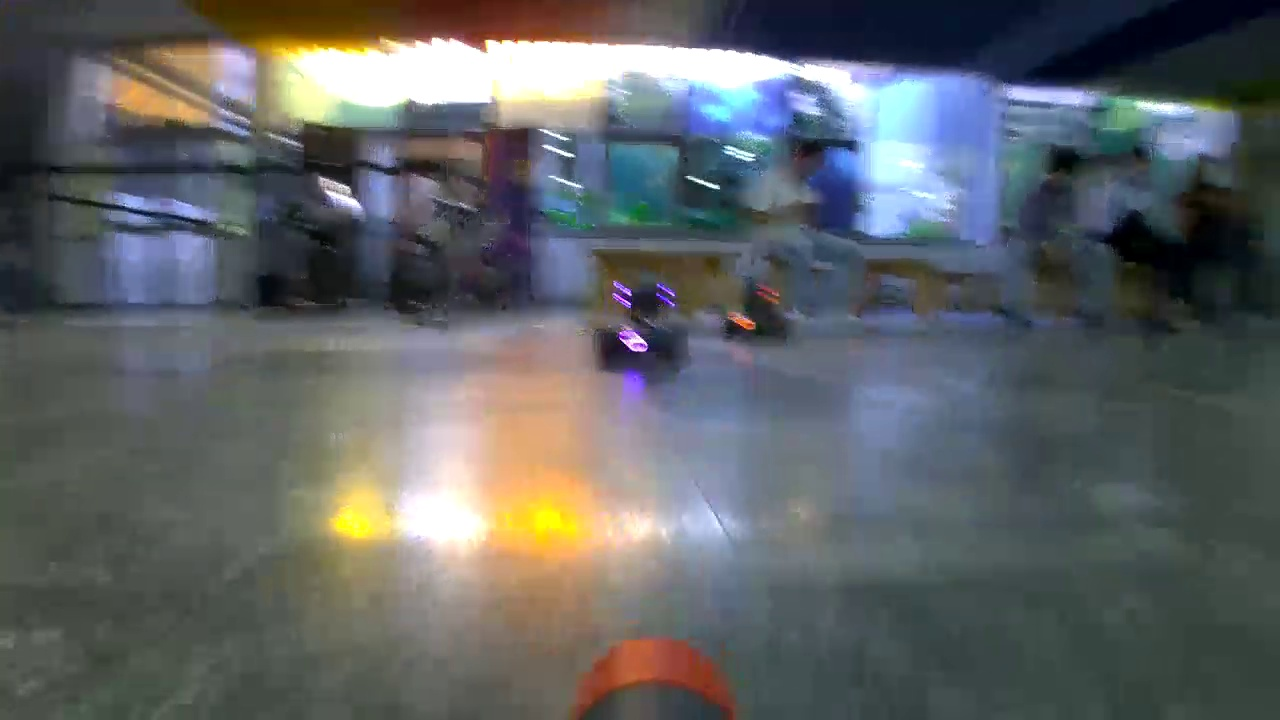robot: (598, 280, 690, 370), (722, 282, 790, 338)
